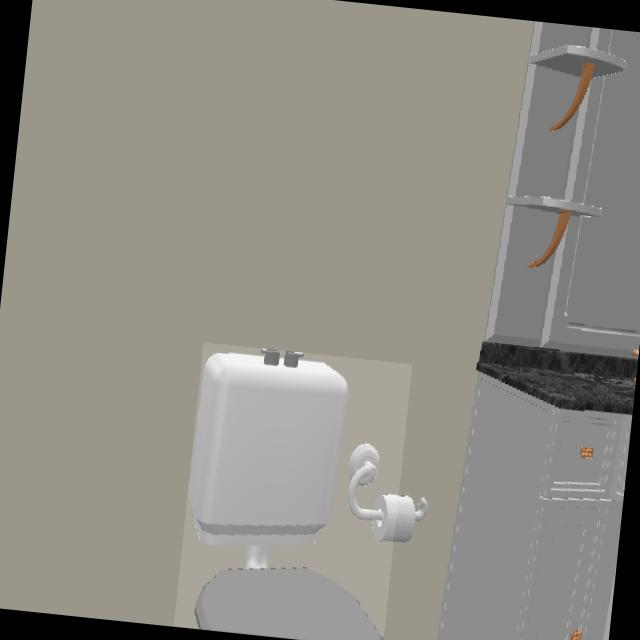toilet: (188, 349, 382, 640)
